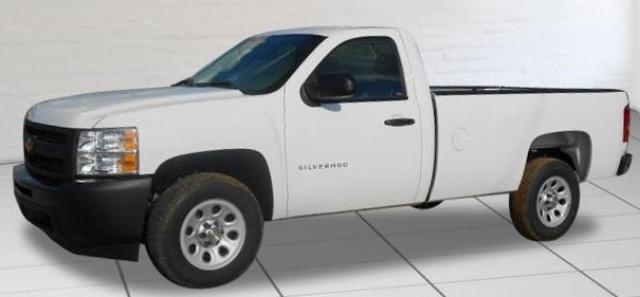pickup-truck: (13, 25, 633, 289)
